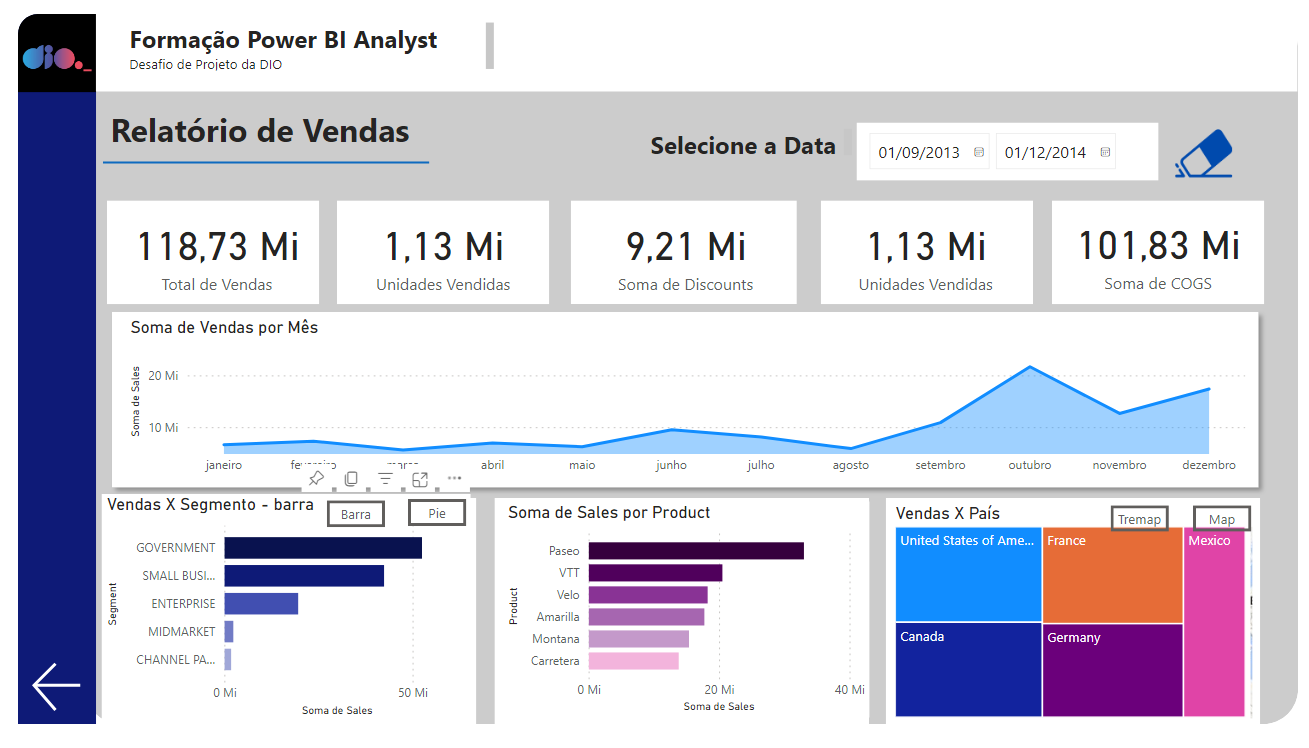

The page's visual inventory and layout, read from the dashboard file:
{"tool":"powerbi","page":{"name":"Página 3","canvas":[1280,720],"ordinal":2},"visuals":[{"type":"shape","box":[0,9.6,78.2,710.8],"z":0,"group":"g6"},{"type":"shape","box":[77.9,9.7,1202.1,77.9],"z":0,"group":"g7"},{"type":"image","title":"botão invisível ","box":[1152.3,114,66.4,71.5],"z":0,"group":"g2"},{"type":"shape","box":[85.5,139.7,326.4,37.1],"z":0,"group":"g5"},{"type":"shape","box":[88.5,195.7,212.7,104.3],"z":0,"group":"g1"},{"type":"clusteredBarChart","title":"Vendas X Segmento - barra","fields":{"Y":["Sum(financials. Sales)"],"Category":["financials.Segment"]},"box":[84,490.2,368.7,227.2],"z":0,"group":"g4"},{"type":"shape","box":[67.2,9.8,1212.6,710.2],"z":1000},{"type":"shape","box":[0,10,78.4,78.4],"z":1000,"group":"g6"},{"type":"textbox","box":[107,13.7,374.6,57.6],"z":1000,"group":"g7"},{"type":"textbox","box":[88.4,98.4,339.2,59.9],"z":1000,"group":"g5"},{"type":"slicer","fields":{"Values":["financials.Date"]},"box":[838.6,118.5,301.9,57.5],"z":1000,"group":"g2"},{"type":"shape","box":[319,195.7,212.7,104.3],"z":1000,"group":"g1"},{"type":"image","title":"Logo DIO","box":[0,9.6,78.2,87.8],"z":2000,"group":"g6"},{"type":"textbox","box":[627.1,119.8,211.5,39.1],"z":2000,"group":"g2"},{"type":"group","id":"g1","title":"Cartões","box":[88.5,195.7,1158.2,104.3],"z":2000},{"type":"shape","box":[552.3,196.1,226.4,103.8],"z":2000,"group":"g1"},{"type":"actionButton","title":"Barra-Botão","box":[308.7,496,58.2,26.9],"z":2000,"group":"g4"},{"type":"map","title":"Vendas X País","fields":{"Category":["financials.Country"],"Size":["Sum(financials. Sales)"]},"box":[869.1,499.2,370.6,221.3],"z":2000,"group":"g3"},{"type":"actionButton","box":[1146.6,114.9,78.2,70.9],"z":3000,"group":"g2"},{"type":"shape","box":[802.1,195.7,212.7,104.3],"z":3000,"group":"g1"},{"type":"shape","box":[85.5,299.3,1164.5,193.9],"z":3000},{"type":"actionButton","title":"Pie-Botão","box":[390.4,495.7,58.2,26.9],"z":3000,"group":"g4"},{"type":"treemap","title":"Vendas X País","fields":{"Group":["financials.Country"],"Values":["Sum(financials. Sales)"]},"box":[872.3,498.9,359.9,219.6],"z":3000,"group":"g3"},{"type":"actionButton","title":"Tremap-Botão","box":[1092.9,501.6,58.3,26.2],"z":3250,"group":"g3"},{"type":"actionButton","title":"Map-Botão","box":[1174.7,501.3,58.3,26.2],"z":3500,"group":"g3"},{"type":"shape","box":[1034,195.7,212.7,104.3],"z":4000,"group":"g1"},{"type":"shape","box":[85.5,493.2,373.5,226.6],"z":4000},{"type":"card","fields":{"Values":["Sum(financials.COGS)"]},"box":[1046.2,202.4,188.2,91.2],"z":5000,"group":"g1"},{"type":"shape","box":[476.1,493.2,374.9,226.6],"z":5000},{"type":"card","fields":{"Values":["Sum(financials.Units Sold)"]},"box":[813.9,203.8,188.2,91.2],"z":6000,"group":"g1"},{"type":"shape","box":[868.1,493.2,374.9,226.6],"z":6000},{"type":"card","fields":{"Values":["Sum(financials.Discounts)"]},"box":[573,203.8,188.2,91.2],"z":7000,"group":"g1"},{"type":"areaChart","title":"Soma de  Vendas por Mês","fields":{"Category":["financials.Date.Variation.Hierarquia de datas.Mês"],"Y":["Sum(financials. Sales)"]},"box":[106.9,312.2,1124.6,166.8],"z":7000},{"type":"card","fields":{"Values":["Sum(financials.Units Sold)"]},"box":[330.7,203.8,188.2,91.2],"z":8000,"group":"g1"},{"type":"clusteredBarChart","fields":{"Y":["Sum(financials. Sales)"],"Category":["financials.Product"]},"box":[485.3,497.5,366.7,216.4],"z":8000},{"type":"group","id":"g2","title":"Filtro por data","box":[627.1,114,597.8,71.8],"z":9000},{"type":"card","fields":{"Values":["Sum(financials. Sales)"]},"box":[104.9,203.2,188.2,91.2],"z":9000,"group":"g1"},{"type":"group","id":"g3","title":"Vendas por país","box":[869.1,498.9,371.6,221.2],"z":10000},{"type":"group","id":"g4","title":"vendas x segmento","box":[84,490.2,375.3,228.5],"z":11000},{"type":"group","id":"g5","title":"título do relatório ","box":[85.5,98.4,342.1,78.4],"z":12000},{"type":"group","id":"g6","title":"barra lateral","box":[0,9.6,78.4,710.8],"z":13000},{"type":"group","id":"g7","title":"cabeçalho ","box":[77.9,9.7,1202.1,77.9],"z":14000},{"type":"actionButton","box":[8.7,652.9,63.3,60.8],"z":14001},{"type":"actionButton","box":[8.7,652.9,63.3,60.8],"z":14002}]}

Visuals, with their boxes on the page's 1280x720 design canvas (x1, y1, x2, y2). These are canvas units, not pixel positions in the 1309x748 screenshot, which may show the page scaled, cropped or inside an application window:
shape: <region>0, 10, 78, 720</region>
shape: <region>78, 10, 1280, 88</region>
"botão invisível " image: <region>1152, 114, 1219, 186</region>
shape: <region>86, 140, 412, 177</region>
shape: <region>88, 196, 301, 300</region>
"Vendas X Segmento - barra" clusteredBarChart: <region>84, 490, 453, 717</region>
shape: <region>67, 10, 1280, 720</region>
shape: <region>0, 10, 78, 88</region>
textbox: <region>107, 14, 482, 71</region>
textbox: <region>88, 98, 428, 158</region>
slicer - financials.Date: <region>839, 118, 1140, 176</region>
shape: <region>319, 196, 532, 300</region>
"Logo DIO" image: <region>0, 10, 78, 97</region>
textbox: <region>627, 120, 839, 159</region>
"Cartões" group: <region>88, 196, 1247, 300</region>
shape: <region>552, 196, 779, 300</region>
"Barra-Botão" actionButton: <region>309, 496, 367, 523</region>
"Vendas X País" map: <region>869, 499, 1240, 720</region>
actionButton: <region>1147, 115, 1225, 186</region>
shape: <region>802, 196, 1015, 300</region>
shape: <region>86, 299, 1250, 493</region>
"Pie-Botão" actionButton: <region>390, 496, 449, 523</region>
"Vendas X País" treemap: <region>872, 499, 1232, 718</region>
"Tremap-Botão" actionButton: <region>1093, 502, 1151, 528</region>
"Map-Botão" actionButton: <region>1175, 501, 1233, 528</region>
shape: <region>1034, 196, 1247, 300</region>
shape: <region>86, 493, 459, 720</region>
card - Sum(financials.COGS): <region>1046, 202, 1234, 294</region>
shape: <region>476, 493, 851, 720</region>
card - Sum(financials.Units Sold): <region>814, 204, 1002, 295</region>
shape: <region>868, 493, 1243, 720</region>
card - Sum(financials.Discounts): <region>573, 204, 761, 295</region>
"Soma de  Vendas por Mês" areaChart: <region>107, 312, 1232, 479</region>
card - Sum(financials.Units Sold): <region>331, 204, 519, 295</region>
clusteredBarChart - Sum(financials. Sales) x financials.Product: <region>485, 498, 852, 714</region>
"Filtro por data" group: <region>627, 114, 1225, 186</region>
card - Sum(financials. Sales): <region>105, 203, 293, 294</region>
"Vendas por país" group: <region>869, 499, 1241, 720</region>
"vendas x segmento" group: <region>84, 490, 459, 719</region>
"título do relatório " group: <region>86, 98, 428, 177</region>
"barra lateral" group: <region>0, 10, 78, 720</region>
"cabeçalho " group: <region>78, 10, 1280, 88</region>
actionButton: <region>9, 653, 72, 714</region>
actionButton: <region>9, 653, 72, 714</region>
